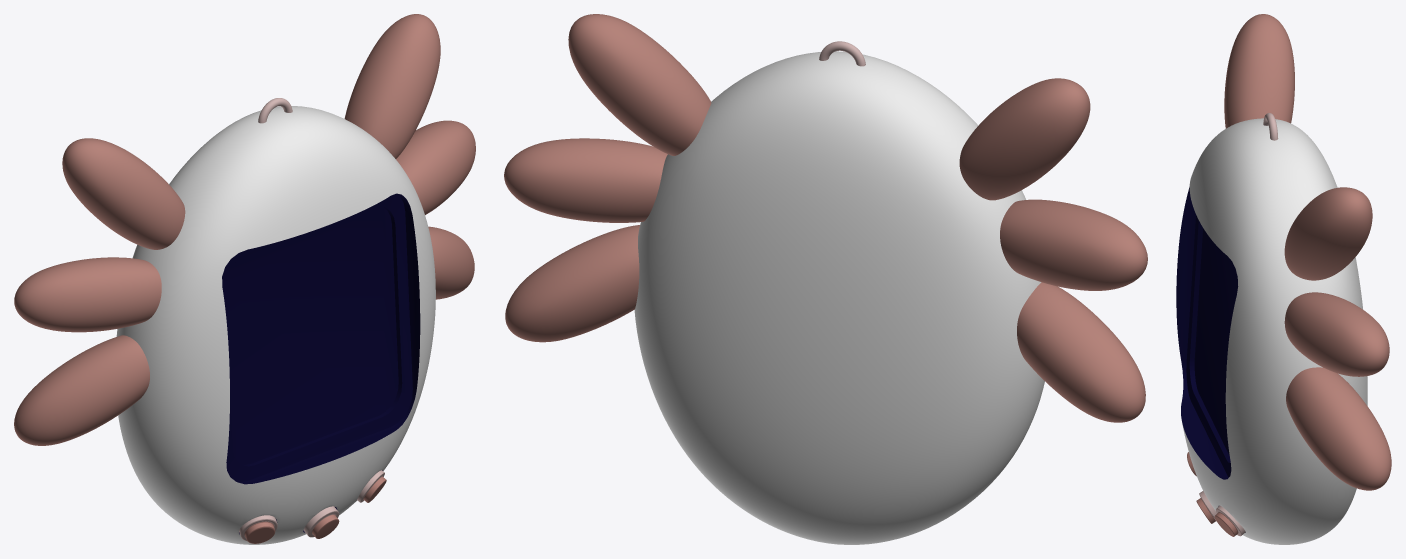
The model's file is tama2.gltf.
The picture shows the model from 3 angles, left to right: view 1: azimuth 30°, elevation 25°; view 2: azimuth 150°, elevation 25°; view 3: azimuth 270°, elevation 25°; orthographic projection. The views are drawn at different scales.
Visible parts, largest first — view 1: Cube; view 2: Cube; view 3: Cube.
Boxes of the visible parts, left/top/right/bottom form: Cube: left=14, top=14, right=475, bottom=544; Cube: left=504, top=14, right=1147, bottom=544; Cube: left=1176, top=14, right=1391, bottom=544.
Size of the model in its own units: 4.42 by 3.67 by 1.69.
